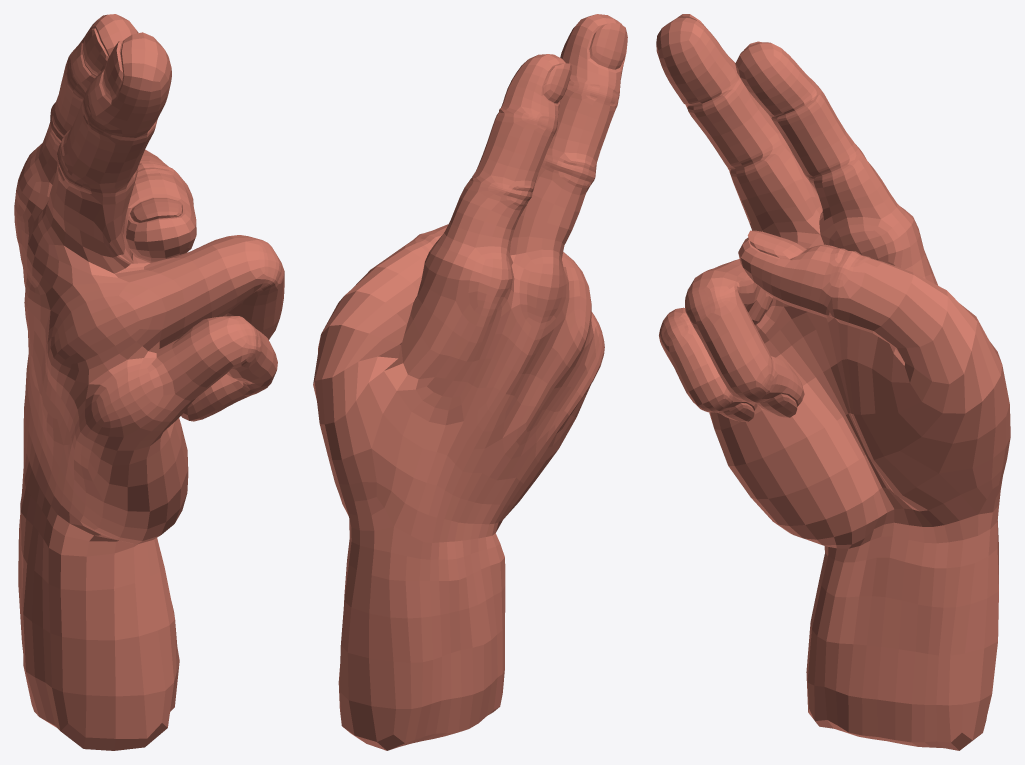
The model's file is haah.glb.
3 renders of one model, left to right at view 1: azimuth 30°, elevation 25°; view 2: azimuth 150°, elevation 25°; view 3: azimuth 270°, elevation 25°, orthographic. The views are drawn at different scales.
Parts seen in each view (by area): view 1: ZBrushPolyMesh3D; view 2: ZBrushPolyMesh3D; view 3: ZBrushPolyMesh3D.
Boxes of the visible parts, <box> form: ZBrushPolyMesh3D: <box>14,14,284,750</box>; ZBrushPolyMesh3D: <box>313,14,627,750</box>; ZBrushPolyMesh3D: <box>656,14,1010,750</box>.
Size of the model in its own units: 1.38 by 4.87 by 2.32.
